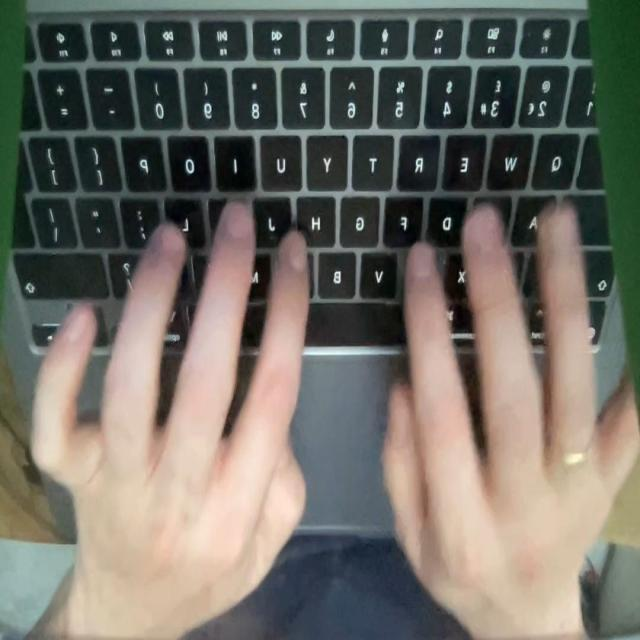keyboard-with-hands: (1, 0, 628, 539)
